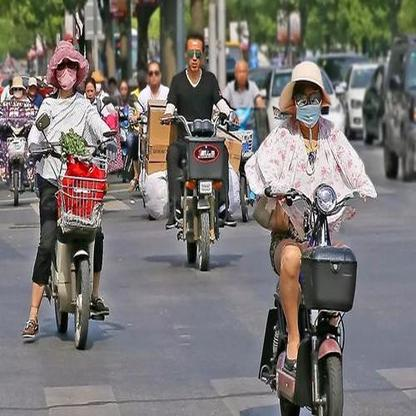target: (244, 60, 378, 411), (20, 40, 122, 350), (159, 31, 240, 274)
